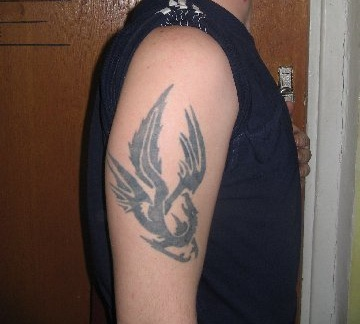tatu6_drakon: (101, 71, 216, 270)
